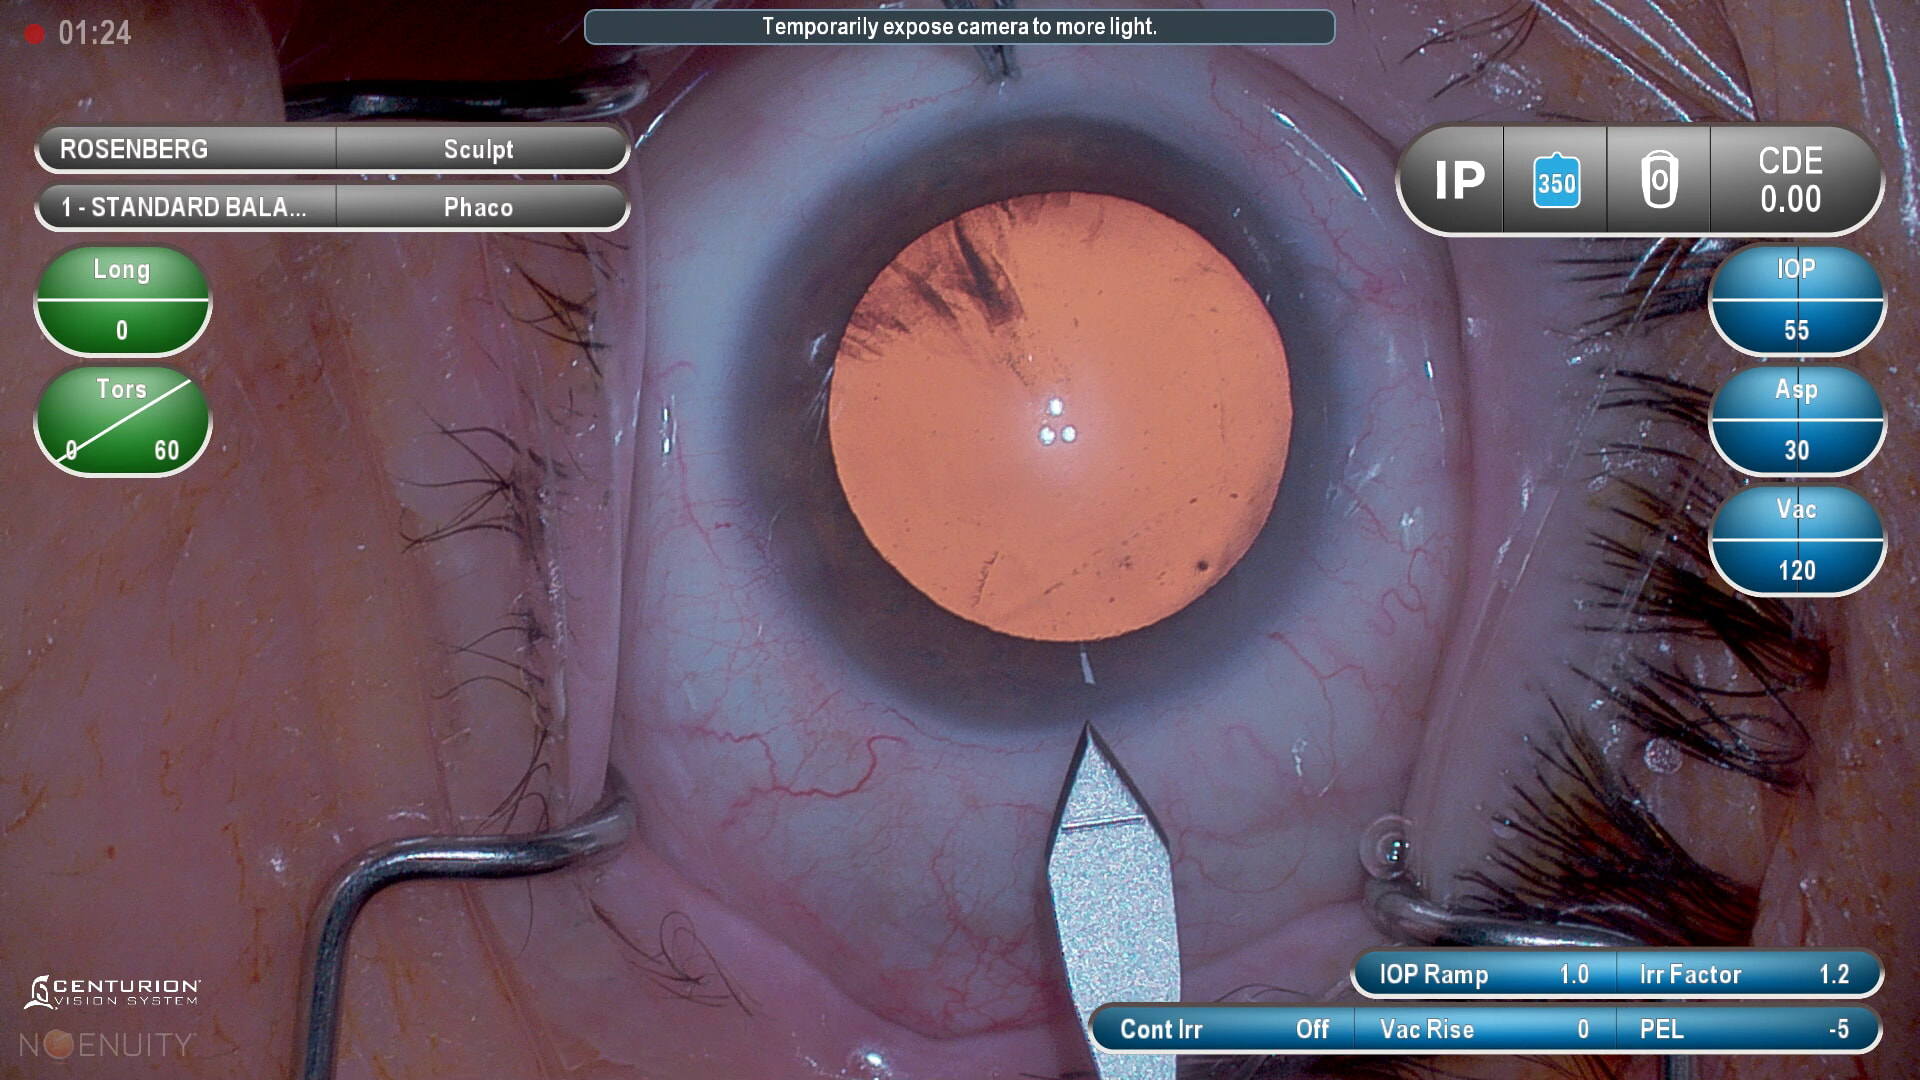iris: (732, 121, 1337, 729)
pupil: (833, 185, 1305, 646)
